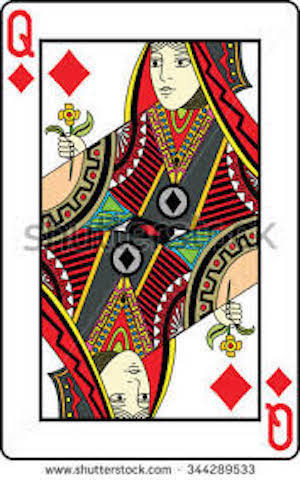QueenOfDiamonds: (1, 1, 299, 462)
